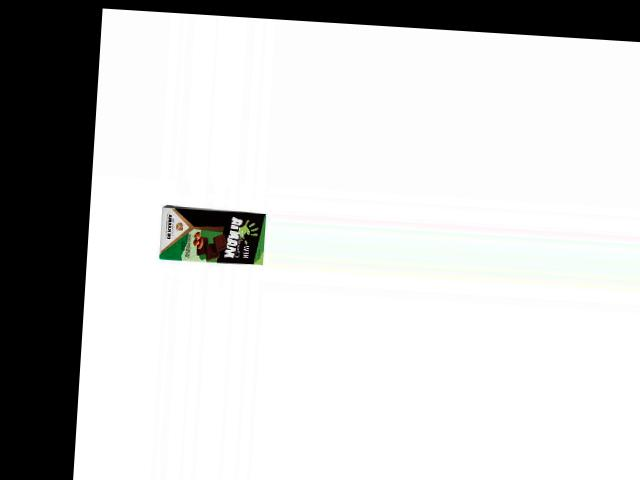chocolate: (157, 203, 268, 268)
